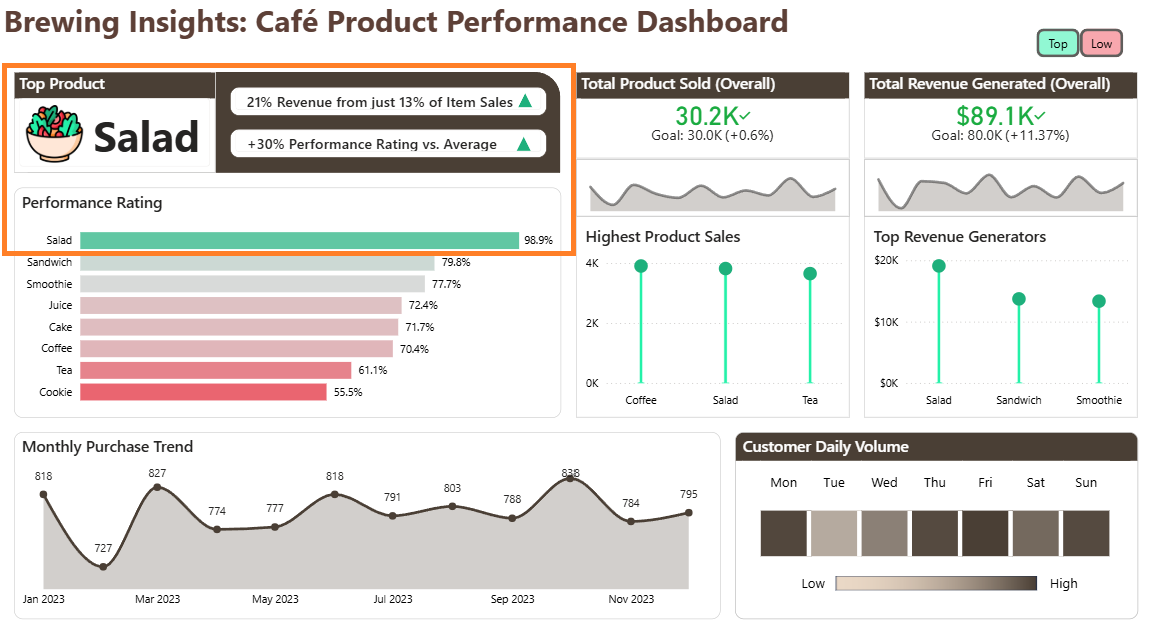

This screenshot's page, from the dashboard's own definition file:
{"tool":"powerbi","page":{"name":"Page 1","canvas":[1280,720],"ordinal":0},"visuals":[{"type":"shape","box":[32,80,592,112],"z":0},{"type":"lineChart","fields":{"Category":["cafe_sales_clean.transaction_date.Variation.Date Hierarchy.Year","cafe_sales_clean.transaction_date.Variation.Date Hierarchy.Quarter","cafe_sales_clean.transaction_date.Variation.Date Hierarchy.Month"],"Y":["Sum(cafe_sales_clean.quantity)"]},"box":[640,176,304,64],"z":1000},{"type":"lineChart","title":"Monthly Purchase Trend","fields":{"Y":["CountNonNull(cafe_sales_clean.transaction_id)"],"Category":["cafe_sales_clean.transaction_date.Variation.Date Hierarchy.Year","cafe_sales_clean.transaction_date.Variation.Date Hierarchy.Quarter","cafe_sales_clean.transaction_date.Variation.Date Hierarchy.Month"]},"box":[16,480,784,208],"z":2000},{"type":"kpi","title":"Total Product Sold (Overall)","fields":{"Goal":["cafe_sales_clean.Target Product Sales"],"TrendLine":["cafe_sales_clean.transaction_date"],"Indicator":["cafe_sales_clean.Total Products Sold"]},"box":[640,80,304,96],"z":3000},{"type":"clusteredBarChart","title":"Performance Rating","fields":{"Category":["cafe_sales_clean.item"],"Y":["cafe_sales_clean.Performance Rating"]},"box":[16,208,608,256],"z":4000},{"type":"textbox","title":"Brewing Insights: Café Product Performance Dashboard","box":[0,0,1040,48],"z":5000},{"type":"lineChart","title":"Highest Product Sales","fields":{"Y":["Sum(cafe_sales_clean.quantity)"],"Category":["cafe_sales_clean.item"]},"box":[640,240,304,224],"z":6000},{"type":"lineChart","title":"Top Revenue Generators","fields":{"Y":["Sum(cafe_sales_clean.total_spent)"],"Category":["cafe_sales_clean.item"]},"box":[960,240,304,224],"z":7000},{"type":"cardVisual","title":"Top Product","fields":{"Data":["cafe_sales_clean.Top Item"]},"box":[16,80,224,112],"z":8000},{"type":"pivotTable","title":"Customer Daily Volume","fields":{"Columns":["cafe_sales_clean.DayName"],"Values":["cafe_sales_clean.Customer Volume"]},"box":[816,480,448,208],"z":9000},{"type":"image","box":[21,116,80,64],"z":10000},{"type":"cardVisual","fields":{"Data":["cafe_sales_clean.KPI RevenueQty Line"]},"box":[256,96,352,32],"z":11000},{"type":"shape","box":[576,104,16,16],"z":12000},{"type":"image","box":[928,640,224,16],"z":13000},{"type":"textbox","box":[882,632,336,48],"z":14000},{"type":"actionButton","title":"Top Performer","box":[1152,32,48,32],"z":17000},{"type":"actionButton","title":"Low Performer","box":[1200,32,48,32],"z":18000},{"type":"lineChart","fields":{"Category":["cafe_sales_clean.transaction_date.Variation.Date Hierarchy.Year","cafe_sales_clean.transaction_date.Variation.Date Hierarchy.Quarter","cafe_sales_clean.transaction_date.Variation.Date Hierarchy.Month"],"Y":["Sum(cafe_sales_clean.total_spent)"]},"box":[960,176,304,64],"z":19000},{"type":"cardVisual","fields":{"Data":["cafe_sales_clean.KPI Performance Line"]},"box":[256,144,352,32],"z":20000},{"type":"shape","box":[575,151,16,16],"z":21000},{"type":"kpi","title":"Total Revenue Generated (Overall)","fields":{"TrendLine":["cafe_sales_clean.transaction_date"],"Indicator":["cafe_sales_clean.Total Revenue Generated"],"Goal":["cafe_sales_clean.Target Revenue"]},"box":[960,80,304,96],"z":22000}]}

Visuals, with their boxes in screenshot pixels (x1, y1, x2, y2), scaled from the page's 1280x720 canvas onto the 1149x640 screenshot:
shape: bbox(29, 71, 560, 171)
lineChart - cafe_sales_clean.transaction_date.Variation.Date Hierarchy.Year x cafe_sales_clean.transaction_date.Variation.Date Hierarchy.Quarter: bbox(574, 156, 847, 213)
"Monthly Purchase Trend" lineChart: bbox(14, 427, 718, 612)
"Total Product Sold (Overall)" kpi: bbox(574, 71, 847, 156)
"Performance Rating" clusteredBarChart: bbox(14, 185, 560, 412)
"Brewing Insights: Café Product Performance Dashboard" textbox: bbox(0, 0, 934, 43)
"Highest Product Sales" lineChart: bbox(574, 213, 847, 412)
"Top Revenue Generators" lineChart: bbox(862, 213, 1135, 412)
"Top Product" cardVisual: bbox(14, 71, 215, 171)
"Customer Daily Volume" pivotTable: bbox(732, 427, 1135, 612)
image: bbox(19, 103, 91, 160)
cardVisual - cafe_sales_clean.KPI RevenueQty Line: bbox(230, 85, 546, 114)
shape: bbox(517, 92, 531, 107)
image: bbox(833, 569, 1034, 583)
textbox: bbox(792, 562, 1093, 604)
"Top Performer" actionButton: bbox(1034, 28, 1077, 57)
"Low Performer" actionButton: bbox(1077, 28, 1120, 57)
lineChart - cafe_sales_clean.transaction_date.Variation.Date Hierarchy.Year x cafe_sales_clean.transaction_date.Variation.Date Hierarchy.Quarter: bbox(862, 156, 1135, 213)
cardVisual - cafe_sales_clean.KPI Performance Line: bbox(230, 128, 546, 156)
shape: bbox(516, 134, 531, 148)
"Total Revenue Generated (Overall)" kpi: bbox(862, 71, 1135, 156)
